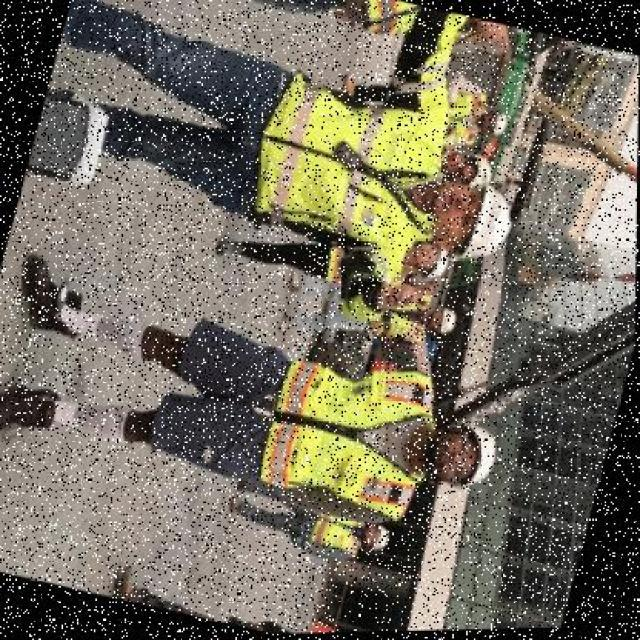helmet: (461, 188, 521, 268), (460, 431, 507, 492)
vest: (229, 68, 455, 274), (235, 337, 443, 530)
